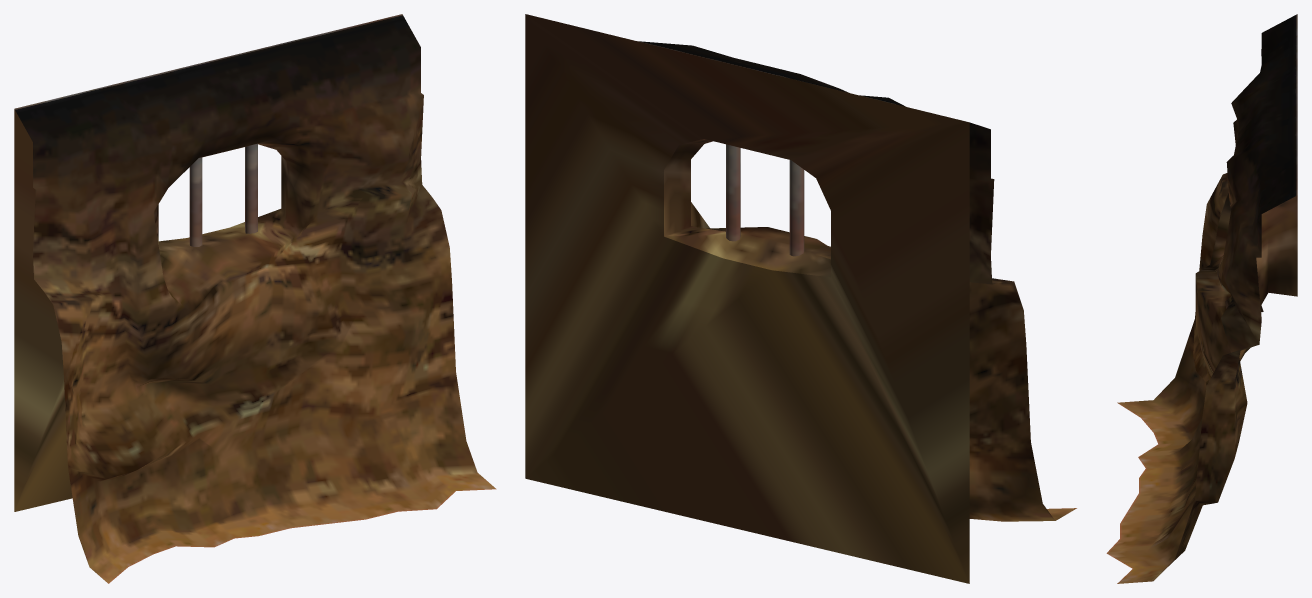
The model's file is tunnelWallF.fbx.
3 renders of one model, left to right at view 1: azimuth 30°, elevation 25°; view 2: azimuth 150°, elevation 25°; view 3: azimuth 270°, elevation 25°, orthographic. The views are drawn at different scales.
Visible parts, largest first — view 1: tunnelWallF; view 2: tunnelWallF; view 3: tunnelWallF.
Part boxes in pixels (x1,y1,x2,y2): tunnelWallF: (14, 14, 496, 583); tunnelWallF: (525, 14, 1076, 583); tunnelWallF: (1106, 14, 1297, 583).
Size of the model in its own units: 300 by 300 by 134.
